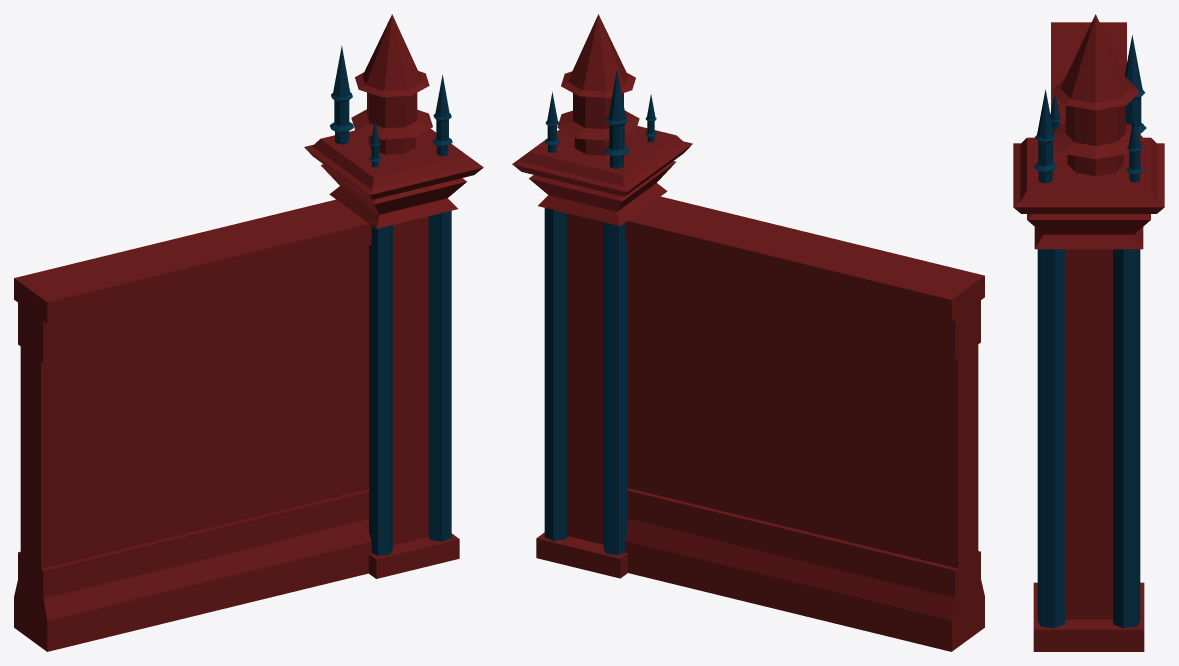
The model's file is HellWallAndPillar.fbx.
3 renders of one model, left to right at view 1: azimuth 30°, elevation 25°; view 2: azimuth 150°, elevation 25°; view 3: azimuth 270°, elevation 25°, orthographic. The views are drawn at different scales.
Visible parts, largest first — view 1: Cube.021, Cube.022, Cube.023, Cone, Cone.001, Cone.004; view 2: Cube.021, Cube.022, Cube.023, Cone, Cone.001; view 3: Cube.022, Cube.023, Cone, Cube.021, Cone.004, Cone.001, Cone.002, Cone.003.
Boxes of the visible parts, left/top/right/bottom form: Cube.021: left=14, top=199, right=371, bottom=651; Cube.022: left=304, top=128, right=483, bottom=578; Cube.023: left=369, top=211, right=451, bottom=555; Cone: left=351, top=14, right=432, bottom=154; Cone.001: left=330, top=46, right=353, bottom=144; Cone.004: left=432, top=75, right=452, bottom=155; Cube.021: left=625, top=196, right=984, bottom=651; Cube.022: left=512, top=126, right=692, bottom=578; Cube.023: left=544, top=208, right=627, bottom=555; Cone: left=557, top=14, right=639, bottom=155; Cone.001: left=605, top=70, right=628, bottom=168; Cube.022: left=1013, top=137, right=1164, bottom=651; Cube.023: left=1037, top=249, right=1140, bottom=628; Cone: left=1051, top=14, right=1143, bottom=176; Cube.021: left=1051, top=22, right=1126, bottom=125; Cone.004: left=1034, top=89, right=1057, bottom=183; Cone.001: left=1124, top=35, right=1146, bottom=134; Cone.002: left=1126, top=113, right=1143, bottom=182; Cone.003: left=1050, top=95, right=1061, bottom=146.
Bounding box in the file's own units: 503 × 612 × 137.
